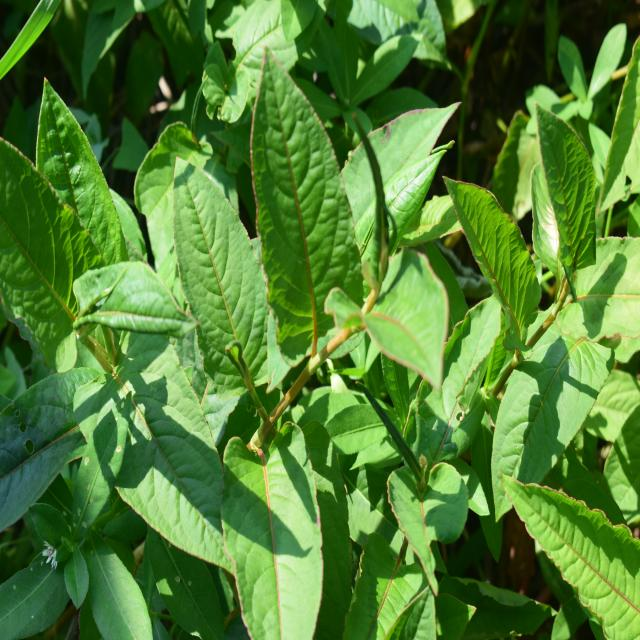Chinese_knotweed: (150, 48, 448, 414), (450, 90, 618, 473)
